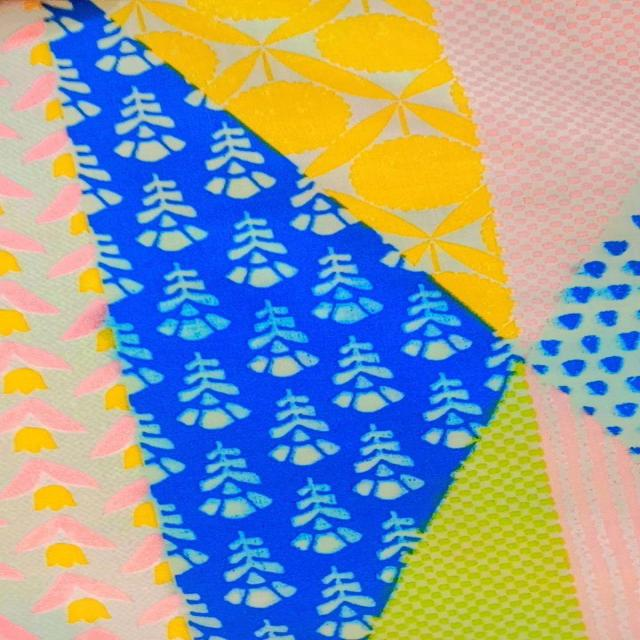color issues: (544, 220, 640, 458)
